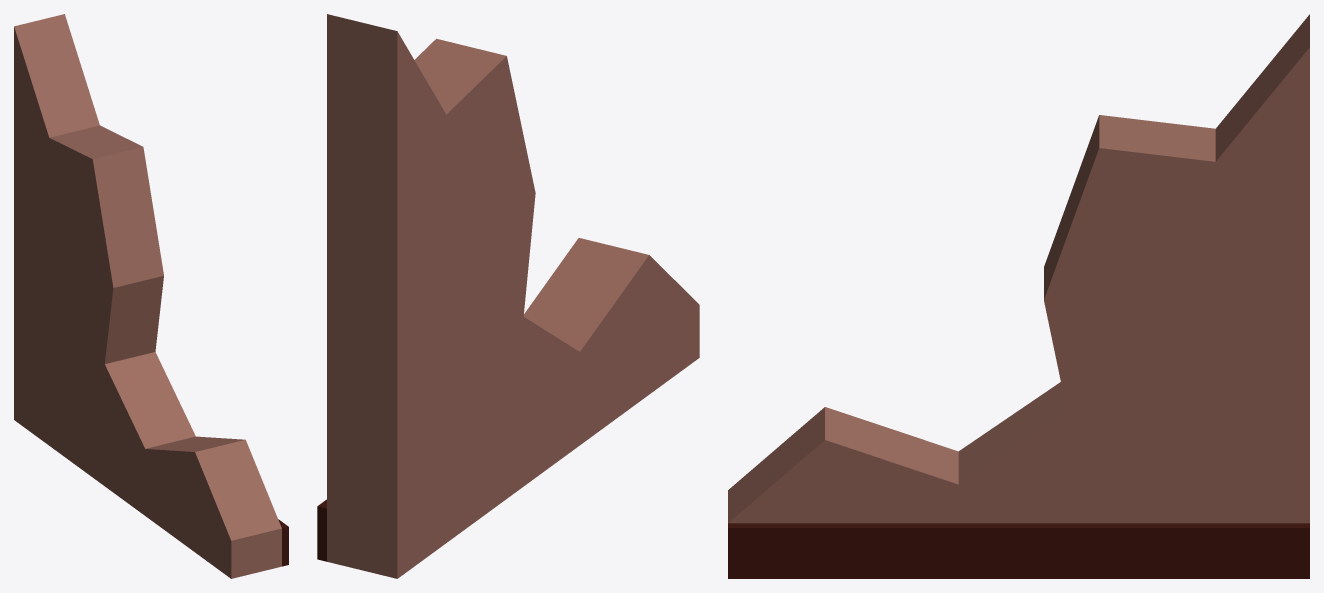
The model's file is T_MurDetruit_10.fbx.
The picture shows the model from 3 angles, left to right: view 1: azimuth 30°, elevation 25°; view 2: azimuth 150°, elevation 25°; view 3: azimuth 270°, elevation 25°; orthographic projection. The views are drawn at different scales.
Parts seen in each view (by area): view 1: T_MurDetruit_10; view 2: T_MurDetruit_10; view 3: T_MurDetruit_10.
Boxes of the visible parts, left/top/right/bottom form: T_MurDetruit_10: left=14, top=14, right=288, bottom=578; T_MurDetruit_10: left=317, top=14, right=699, bottom=578; T_MurDetruit_10: left=728, top=14, right=1309, bottom=578.
Size of the model in its own units: 15.31 by 100 by 100.
